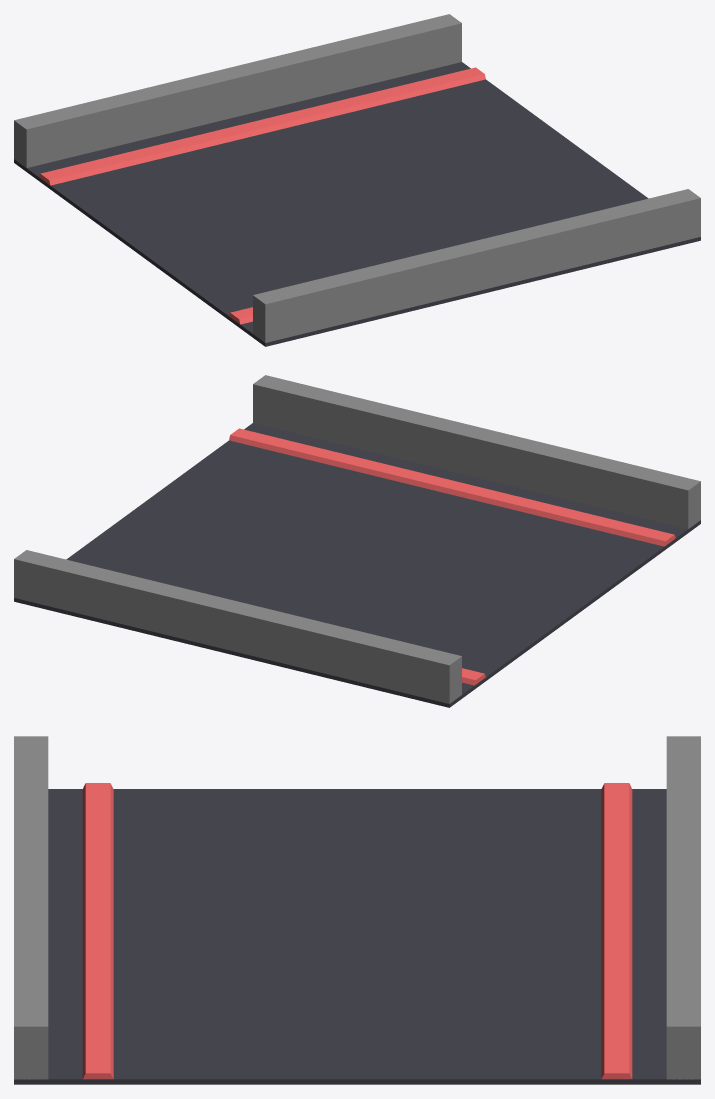
File: kartkids_base_trk_180_elv_flat_1x1_z5.glb
The picture shows the model from 3 angles, top to bottom: view 1: azimuth 30°, elevation 25°; view 2: azimuth 150°, elevation 25°; view 3: azimuth 270°, elevation 25°; orthographic projection. The views are drawn at different scales.
Visible parts, largest first — view 1: kartkids_base_trk_010_rd_straight_1x1.065, kartkids_base_trk_020_trn_90_l_1x1.059; view 2: kartkids_base_trk_010_rd_straight_1x1.065, kartkids_base_trk_020_trn_90_l_1x1.059; view 3: kartkids_base_trk_010_rd_straight_1x1.065, kartkids_base_trk_020_trn_90_l_1x1.059.
Boxes of the visible parts, <box> form: kartkids_base_trk_010_rd_straight_1x1.065: <box>14,62,700,346</box>; kartkids_base_trk_020_trn_90_l_1x1.059: <box>14,14,700,342</box>; kartkids_base_trk_010_rd_straight_1x1.065: <box>14,423,700,707</box>; kartkids_base_trk_020_trn_90_l_1x1.059: <box>14,375,700,703</box>; kartkids_base_trk_010_rd_straight_1x1.065: <box>14,783,700,1084</box>; kartkids_base_trk_020_trn_90_l_1x1.059: <box>14,736,700,1079</box>.
Size of the model in its own units: 10 by 0.9339 by 10.
